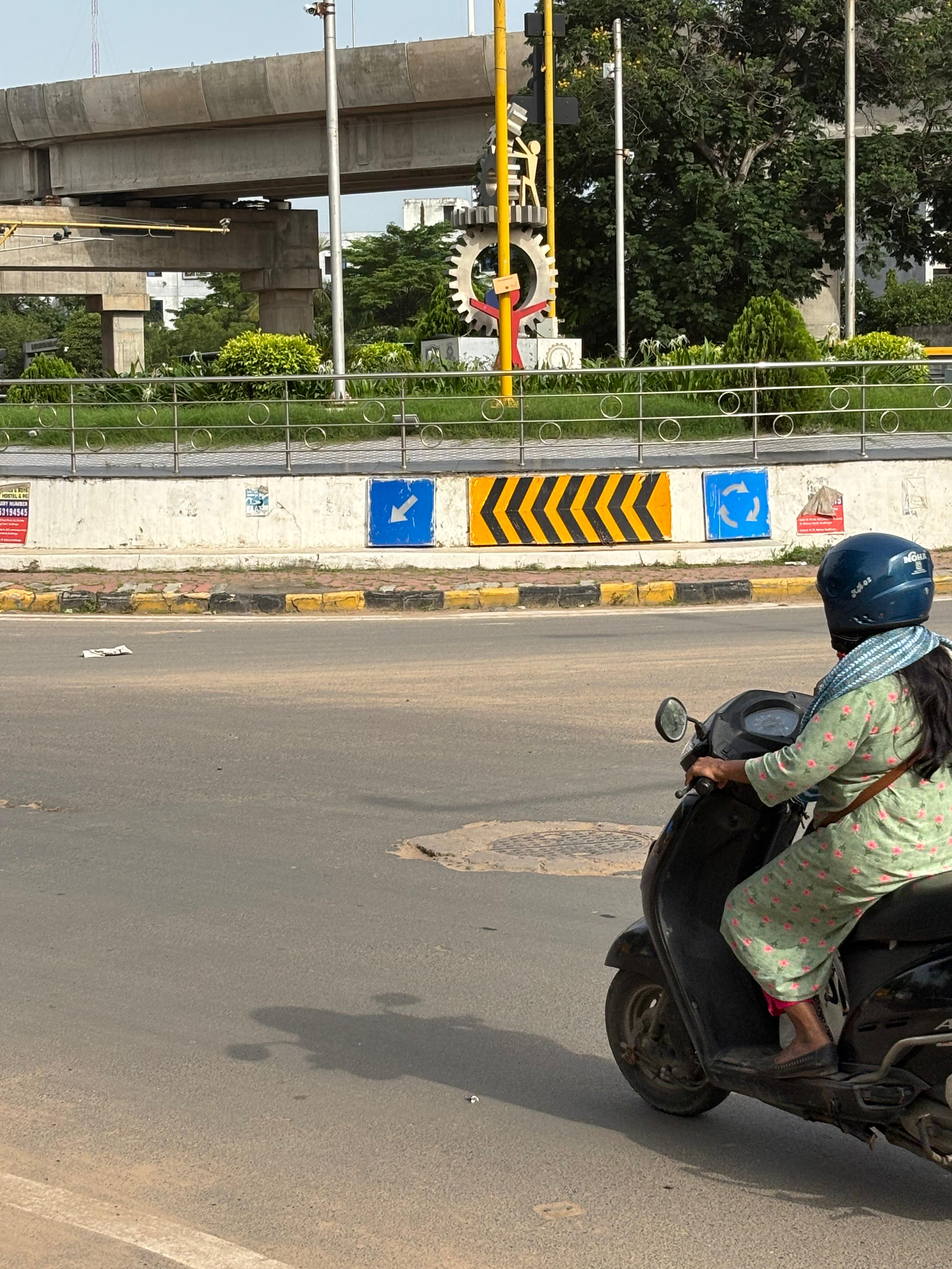BikeWithRider: (549, 449, 952, 1255)
Helmet: (800, 501, 952, 663)
